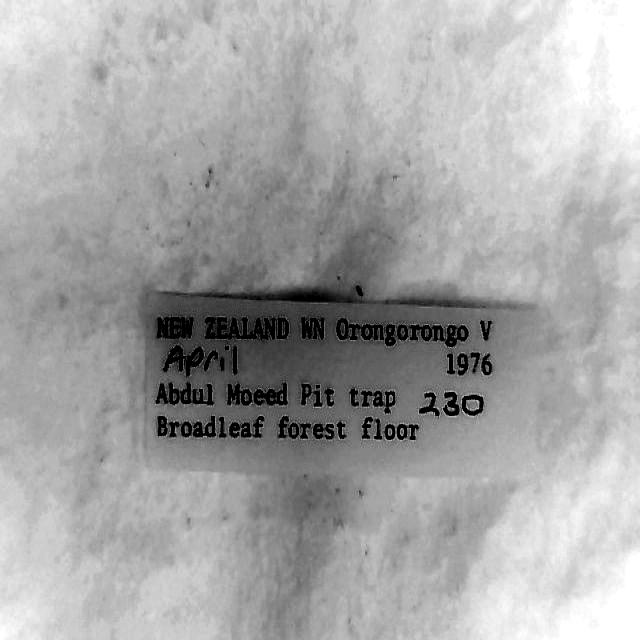mixed_label: (145, 293, 536, 474)
